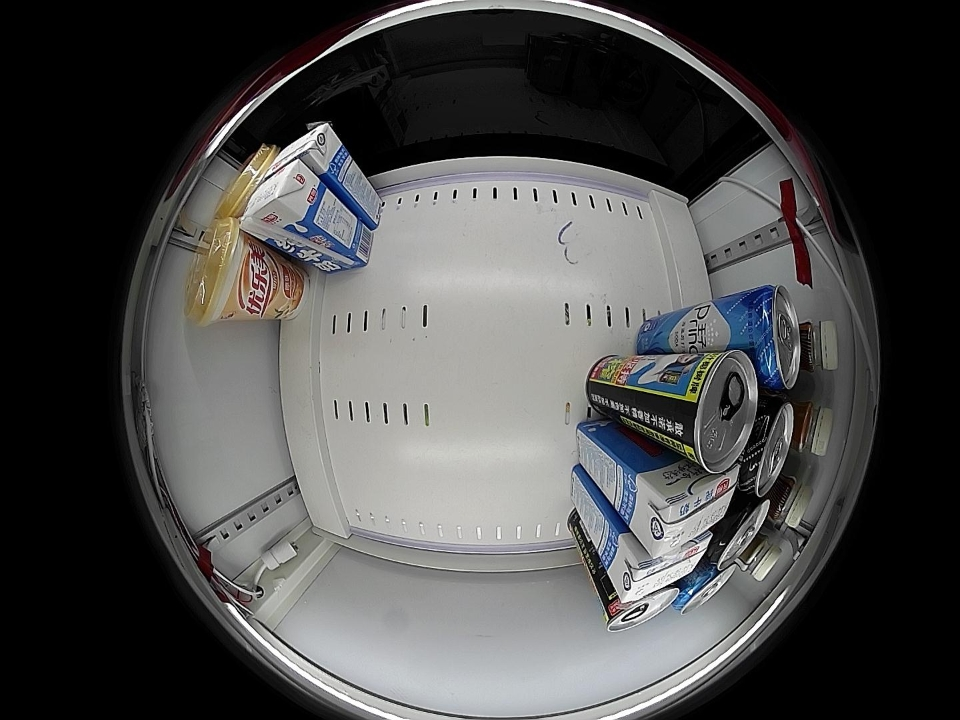kafei: (758, 471, 813, 530), (784, 399, 833, 458), (736, 530, 784, 583), (795, 319, 837, 375)
lingdukele: (708, 494, 771, 568)
niunai: (632, 459, 741, 558), (612, 532, 713, 602), (241, 158, 322, 241), (263, 122, 343, 182)
qingdaowangzi-1: (735, 399, 795, 498)
qingdaowangzi-2: (735, 284, 802, 392), (674, 560, 735, 614)
yezhi: (670, 350, 758, 472), (602, 582, 680, 633)
youlemei: (185, 215, 254, 326), (217, 145, 274, 218)
